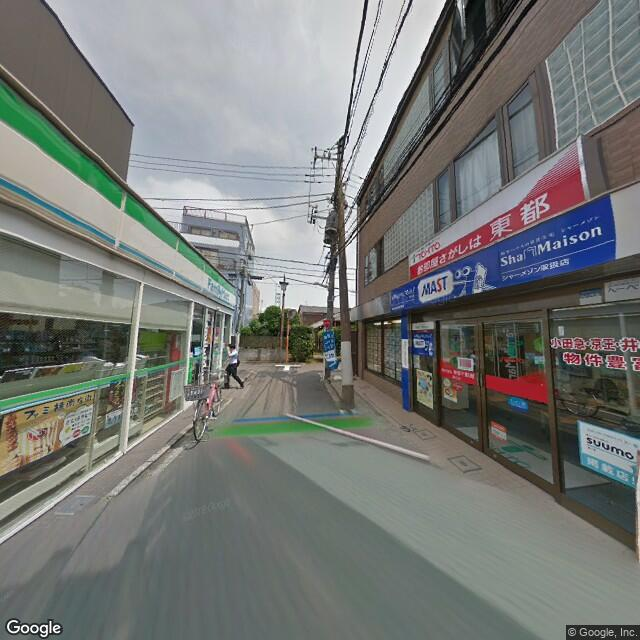family_mart: (2, 82, 240, 310)
